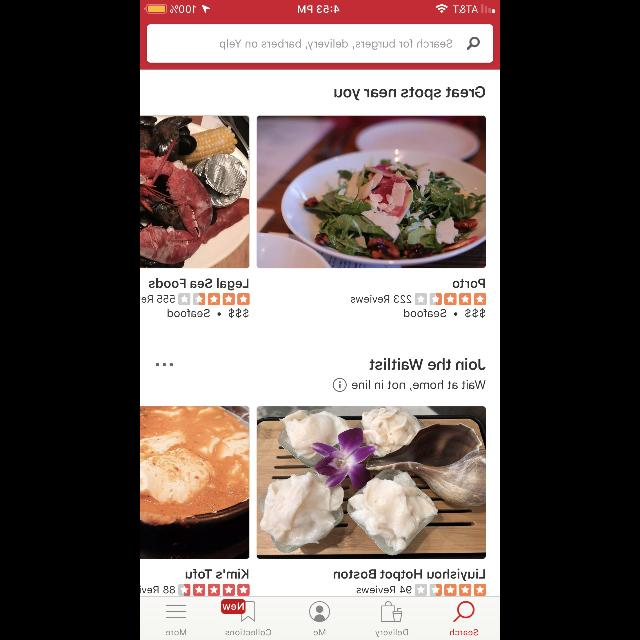icon: (414, 293, 486, 305), (178, 293, 250, 305), (178, 584, 250, 596), (414, 584, 486, 596), (221, 600, 255, 622), (452, 601, 474, 623), (382, 601, 402, 623), (308, 602, 329, 622), (166, 604, 187, 618), (332, 378, 346, 392), (466, 38, 479, 51), (156, 363, 172, 367)
image: (256, 406, 486, 560), (256, 115, 486, 268), (140, 115, 250, 268), (140, 406, 250, 558)
input: (147, 25, 493, 63)
text: (220, 40, 452, 50), (334, 86, 486, 100), (334, 568, 484, 582), (352, 381, 484, 392), (369, 358, 485, 370), (149, 278, 249, 290), (186, 568, 248, 578), (351, 295, 412, 303), (356, 586, 412, 594), (404, 308, 446, 318), (168, 308, 210, 318), (225, 628, 271, 636), (453, 278, 485, 288), (140, 295, 176, 303), (140, 586, 176, 594), (374, 629, 408, 637), (229, 308, 249, 318), (465, 308, 485, 318), (450, 629, 478, 635), (166, 629, 186, 635), (313, 629, 325, 635)
uppertaskbar: (140, 0, 500, 14)
